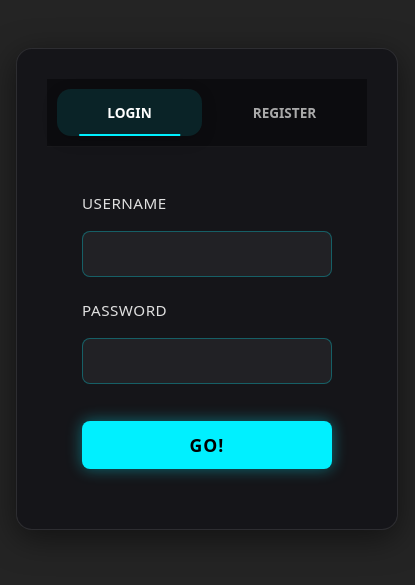
it: AuthForm › displays server error message
Type "wronguser" into the field labelled "Username" at (207, 254), box [82,231,332,277]
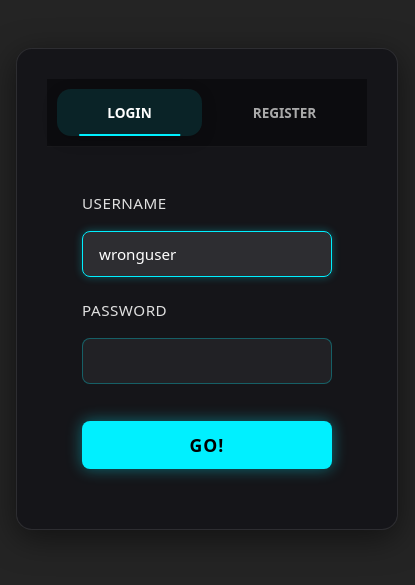
Type "wrongpass" into the password field labelled "Password" at (207, 361), box [82,338,332,384]
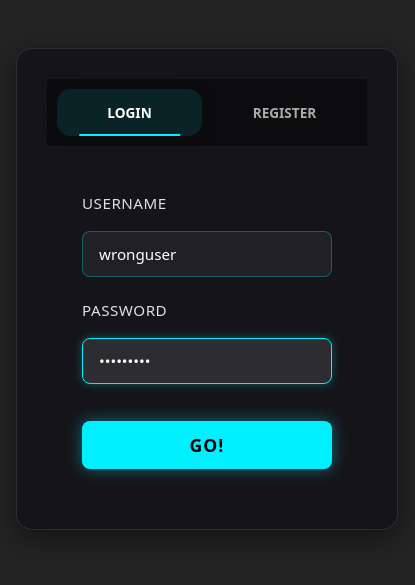
Click the button "GO!" at (207, 445), box [82,421,332,469]
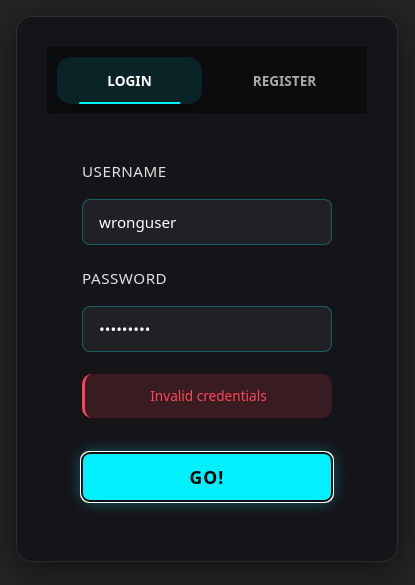
Expected: the text "Invalid credentials" is shown, [82,374,332,418]
